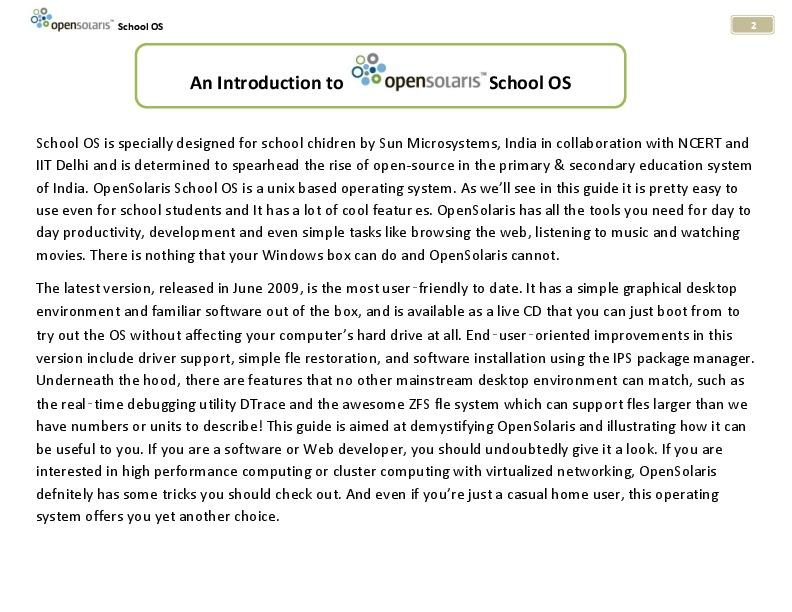paragraph: (19, 106, 772, 558)
title: (182, 49, 595, 99)
